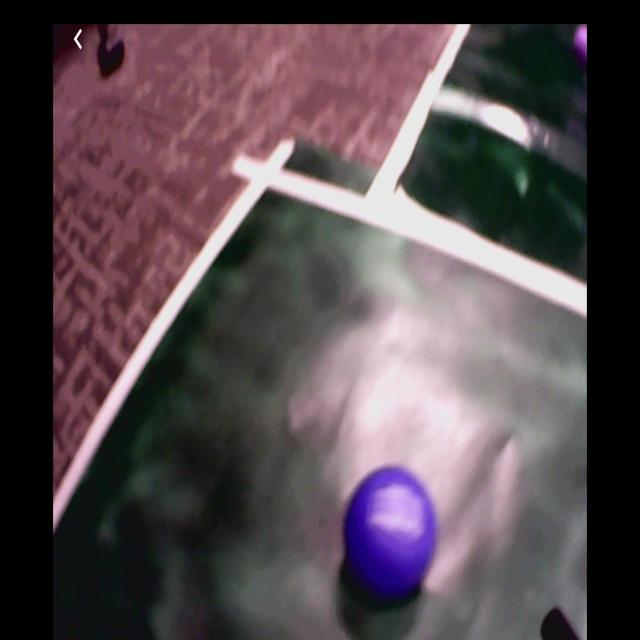ball: (343, 467, 436, 593), (574, 27, 588, 60)
